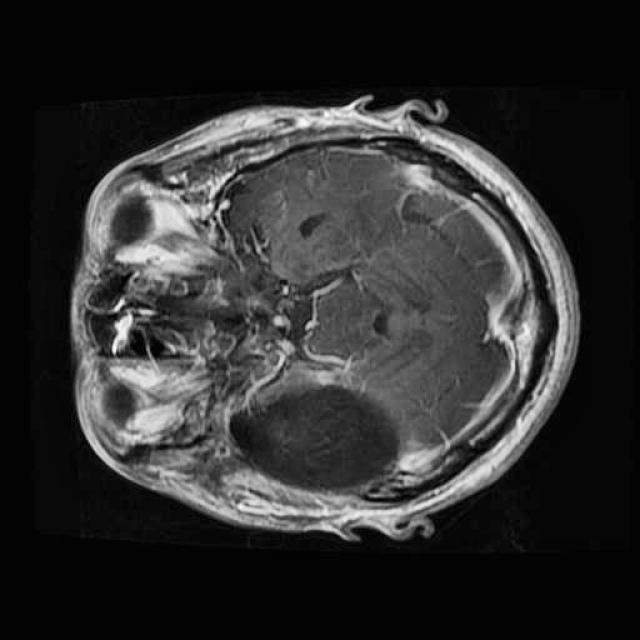Tumor: (214, 368, 416, 509)
